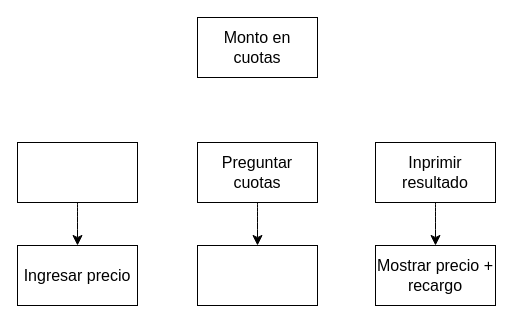
Some shapes in this 513 by 323 pixel diagram are drawn without their labels. The centre of each missing label's shape, as x and y in pixels:
"Entrada de datos" belongs at (77,172).
"Ingresar cuotas" belongs at (257,275).
